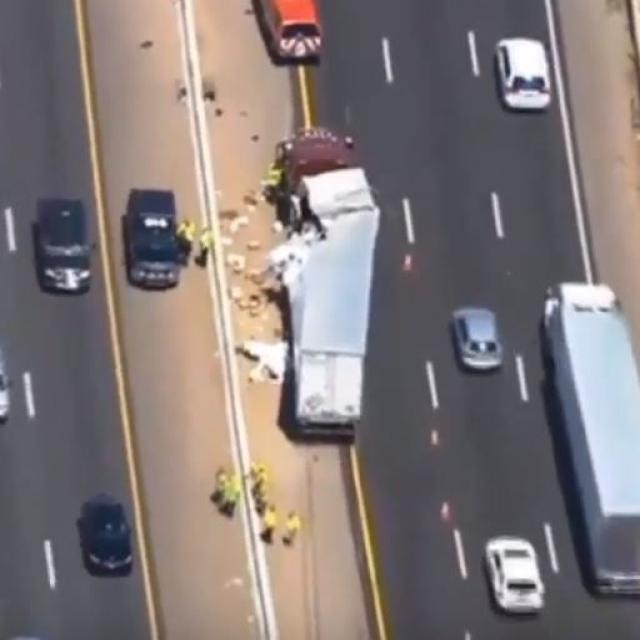traffic_incident: (245, 124, 385, 450)
